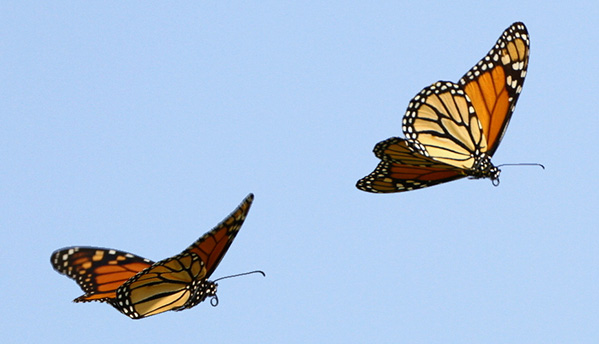Butterfly: (354, 22, 545, 194), (50, 193, 266, 320)
